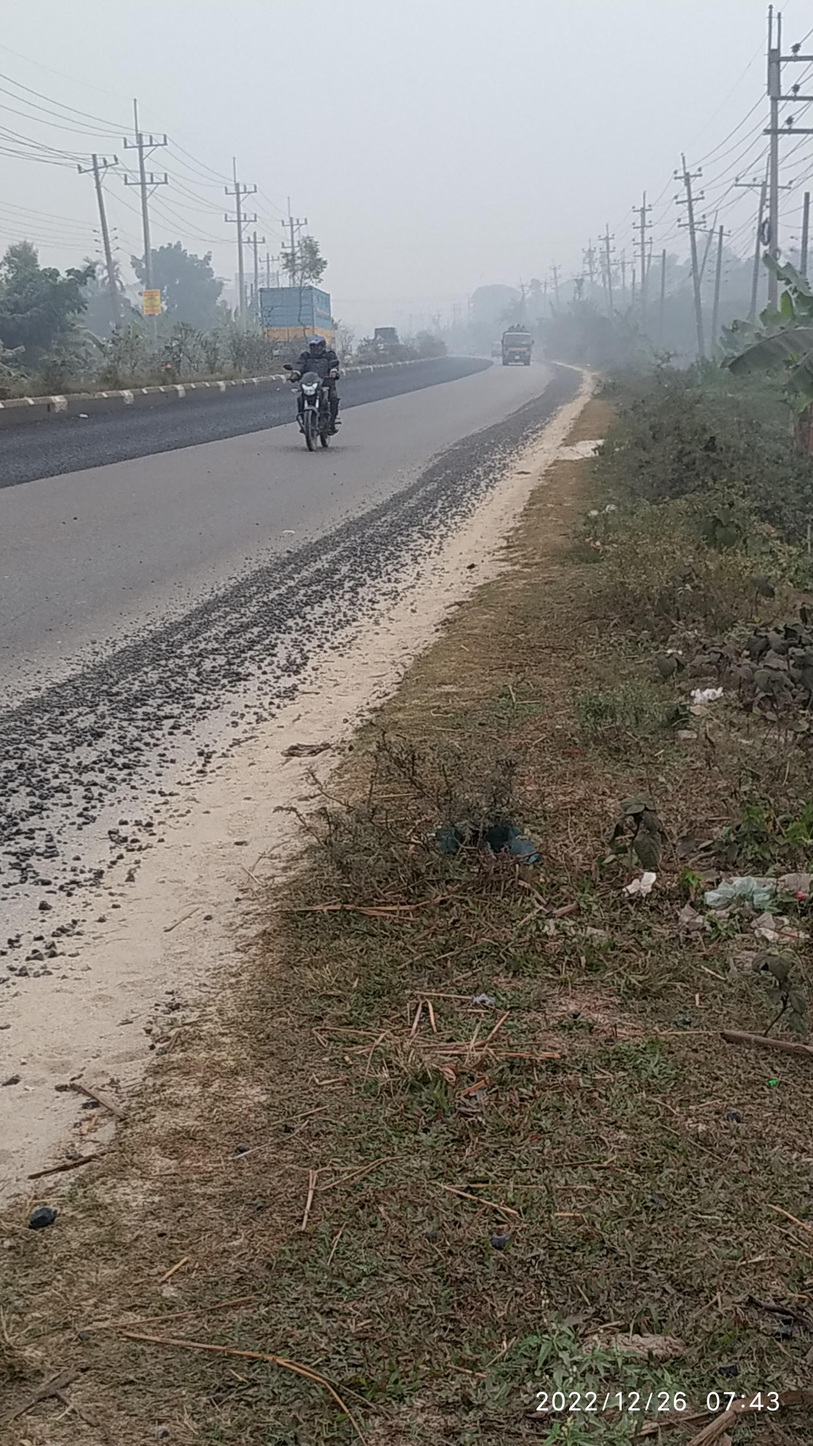Bike: (250, 330, 357, 449)
Truck: (245, 273, 352, 366), (495, 319, 540, 380)
